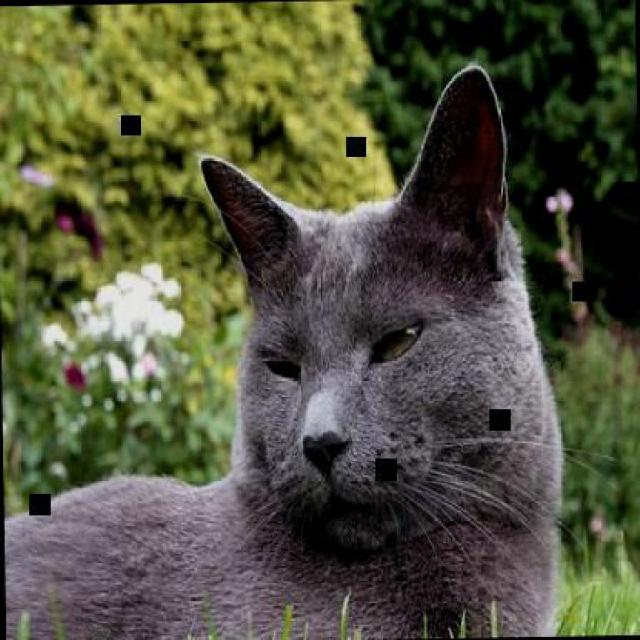cat: (0, 64, 618, 638)
